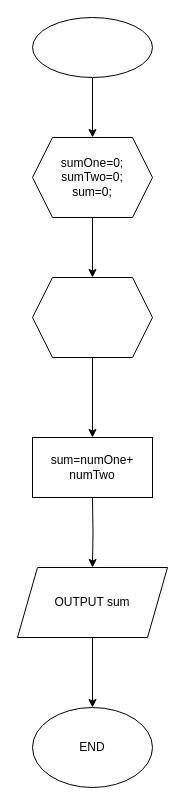
Some shapes in this 185 by 805 pixel diagram are drawn without their labels. Here are the shapes that lost their labels. From the top down, the centre of each, then its label:
At pixel 92 47: "START".
At pixel 92 317: "INPUT numOne, numTwo".
